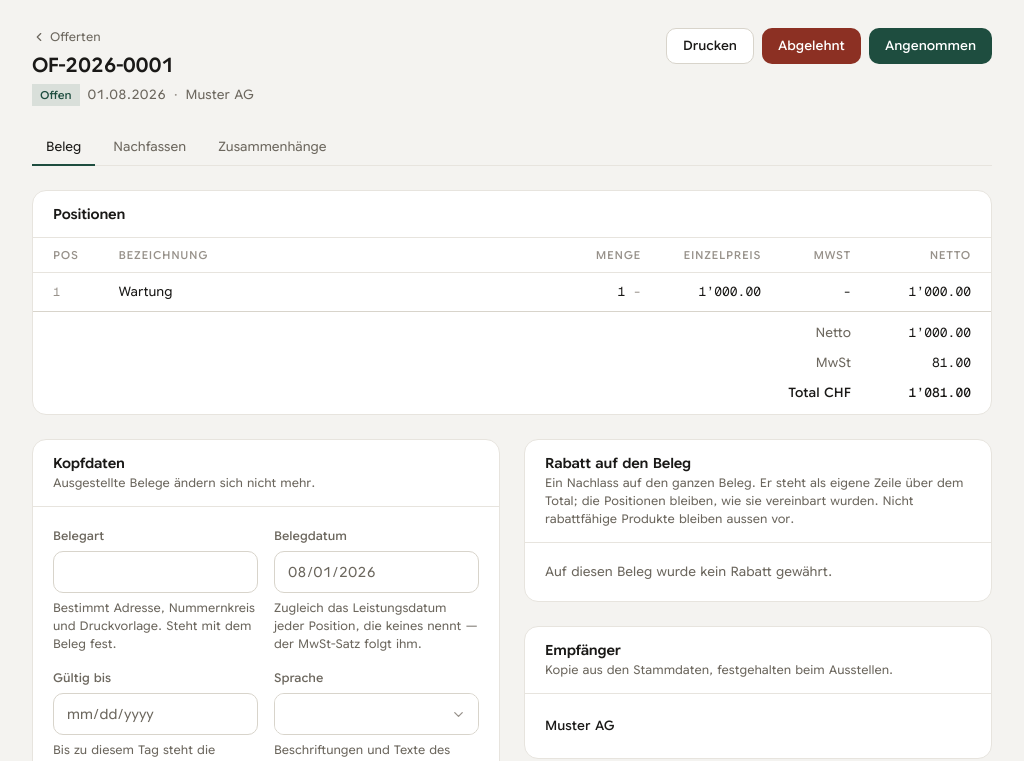
Scenario: SalesDocumentPage › salesDocumentPageSwitchesToTheFollowUpRegisterTest
Click the tab "Nachfassen" at (150, 148), box [99,130,200,166]
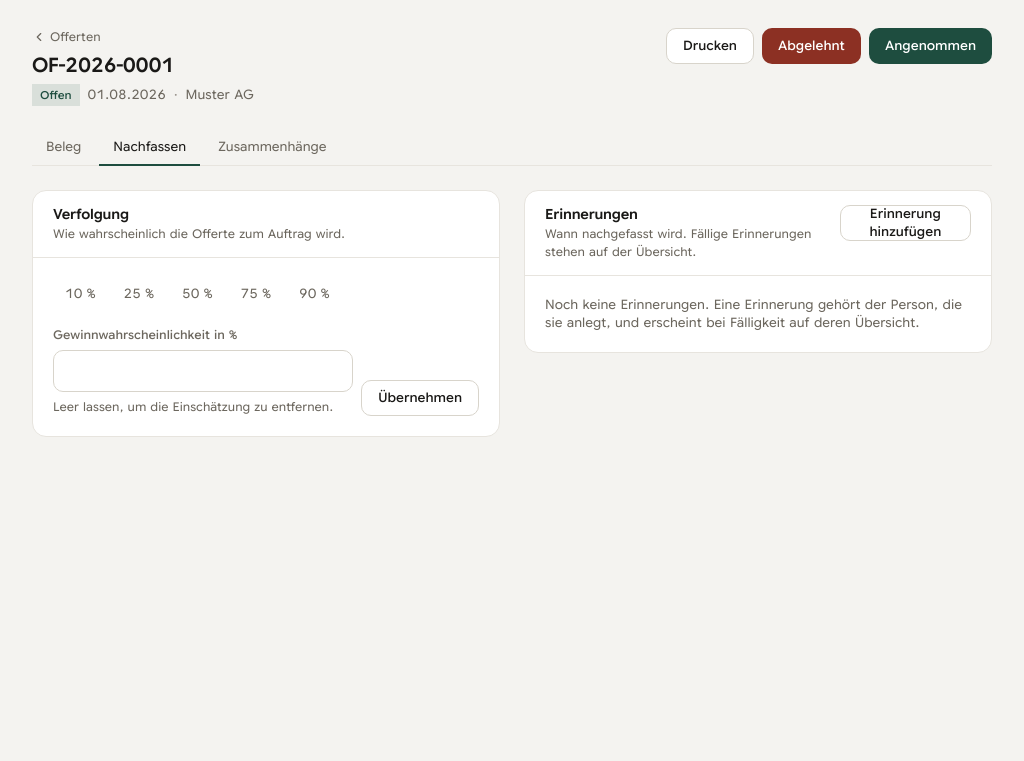
Now the text "Verfolgung" is shown, box [53,205,129,223]
Now the text "Erinnerungen" is shown, box [545,205,638,223]
